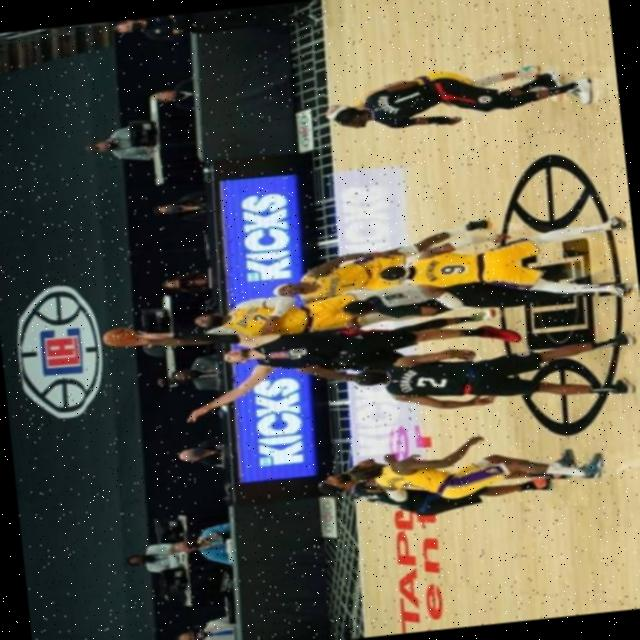ball: (98, 323, 138, 349)
